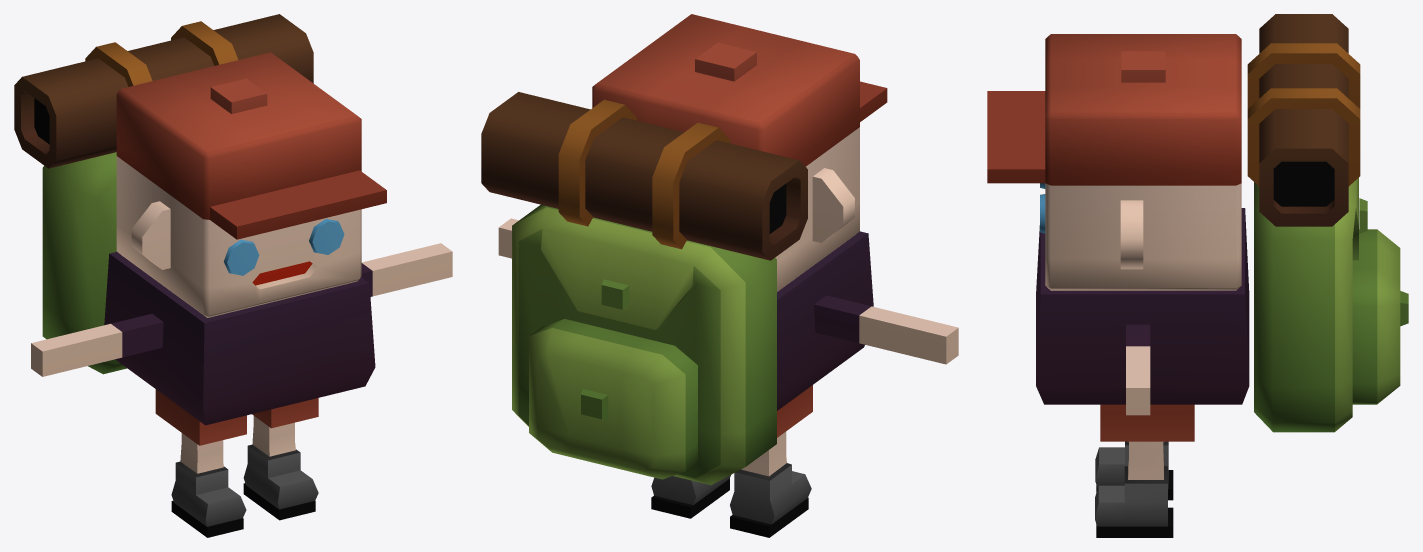
The model's file is boy.fbx.
3 views of the same model, side by side, from view 1: azimuth 30°, elevation 25°; view 2: azimuth 150°, elevation 25°; view 3: azimuth 270°, elevation 25° (orthographic). The views are drawn at different scales.
Parts seen in each view (by area): view 1: boy.002, hat, backpack; view 2: backpack, boy.002, hat; view 3: boy.002, backpack, hat.
Part boxes in pixels (x1=…): boy.002: x1=31, y1=156, x2=452, y2=537; hat: x1=116, y1=52, x2=386, y2=239; backpack: x1=14, y1=14, x2=313, y2=374; backpack: x1=481, y1=92, x2=807, y2=484; boy.002: x1=498, y1=127, x2=958, y2=537; hat: x1=592, y1=14, x2=887, y2=166; boy.002: x1=1036, y1=183, x2=1249, y2=537; backpack: x1=1247, y1=14, x2=1408, y2=432; hat: x1=987, y1=34, x2=1241, y2=185.
Bounding box in the file's own units: 1.52 × 1.48 × 1.26.
